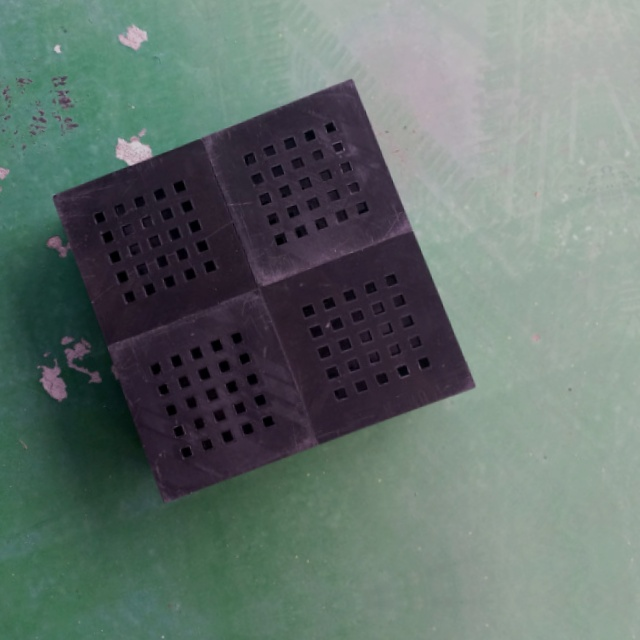pallet: (36, 70, 479, 521)
